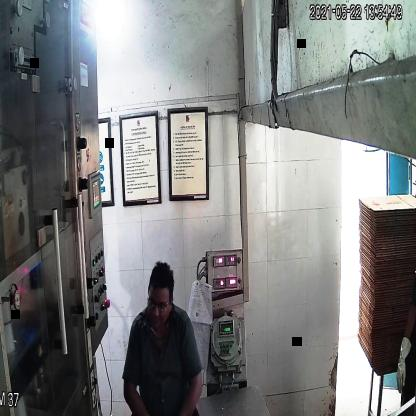goggles: (144, 290, 173, 316)
